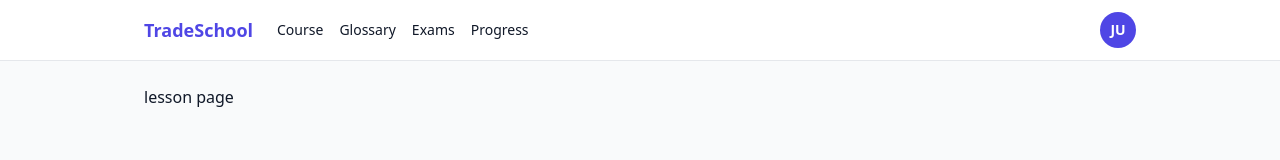
the header wordmark › takes a reader from a deep page back to the start of the course
Click the link "TradeSchool".
click(198, 30)  # box [144,16,253,44]
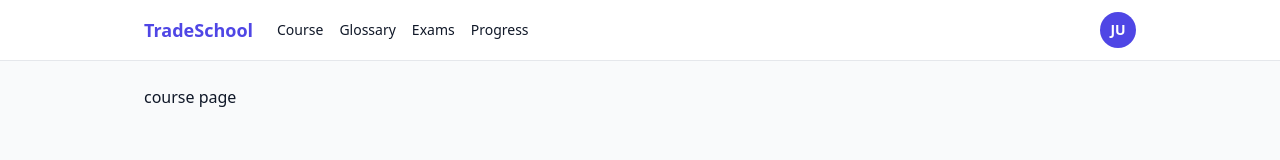
Expected: the text "course page" is shown, [144,86,236,108]
